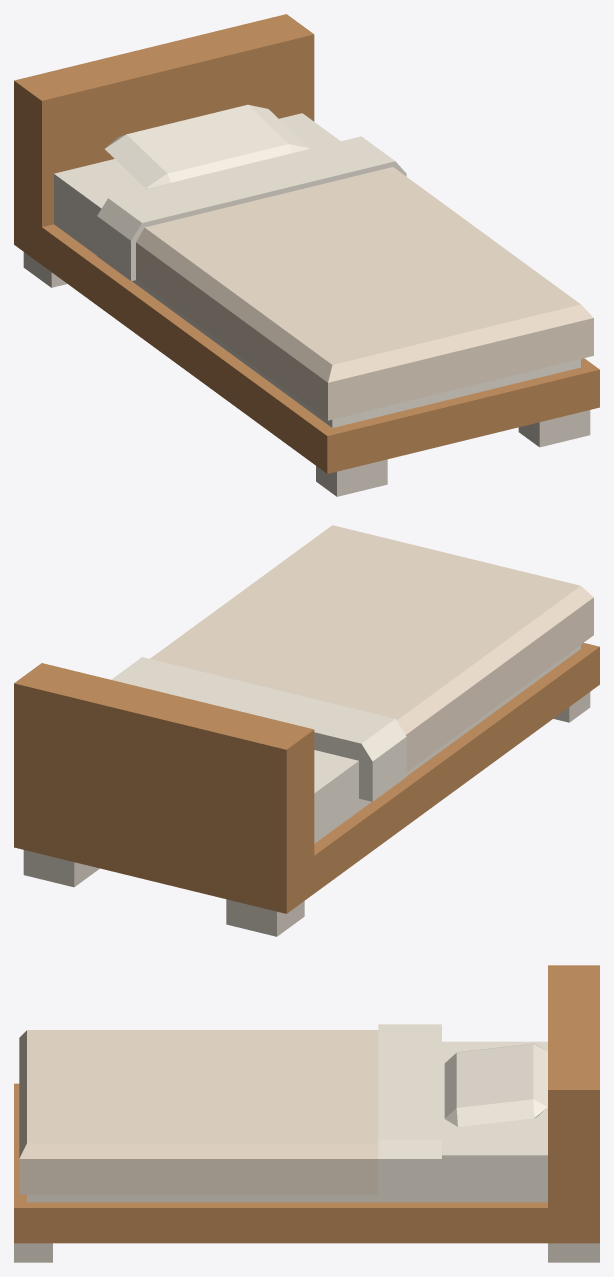
Rendered from kitBedSingle.glb.
The picture shows the model from 3 angles, top to bottom: view 1: azimuth 30°, elevation 25°; view 2: azimuth 150°, elevation 25°; view 3: azimuth 270°, elevation 25°; orthographic projection. The views are drawn at different scales.
Parts seen in each view (by area): view 1: kitBedSingle_fabric, kitBedSingle_wood, kitBedSingle_fabricLight, kitBedSingle_metal; view 2: kitBedSingle_wood, kitBedSingle_fabric, kitBedSingle_fabricLight, kitBedSingle_metal; view 3: kitBedSingle_fabric, kitBedSingle_wood, kitBedSingle_fabricLight, kitBedSingle_metal.
Part boxes in pixels (left/top/right/bottom): kitBedSingle_fabric: left=136, top=167, right=593, bottom=420; kitBedSingle_wood: left=14, top=14, right=599, bottom=473; kitBedSingle_fabricLight: left=54, top=104, right=580, bottom=427; kitBedSingle_metal: left=23, top=252, right=590, bottom=496; kitBedSingle_wood: left=14, top=643, right=599, bottom=913; kitBedSingle_fabric: left=150, top=525, right=593, bottom=771; kitBedSingle_fabricLight: left=111, top=645, right=580, bottom=843; kitBedSingle_metal: left=23, top=692, right=590, bottom=936; kitBedSingle_fabric: left=19, top=1030, right=378, bottom=1194; kitBedSingle_wood: left=14, top=965, right=599, bottom=1243; kitBedSingle_fabricLight: left=27, top=1024, right=547, bottom=1202; kitBedSingle_metal: left=14, top=1243, right=599, bottom=1262.
Size of the model in its own units: 0.96 by 0.6305 by 1.89.
